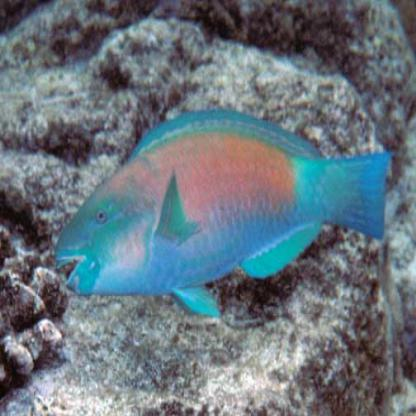parrot: (52, 108, 394, 320)
